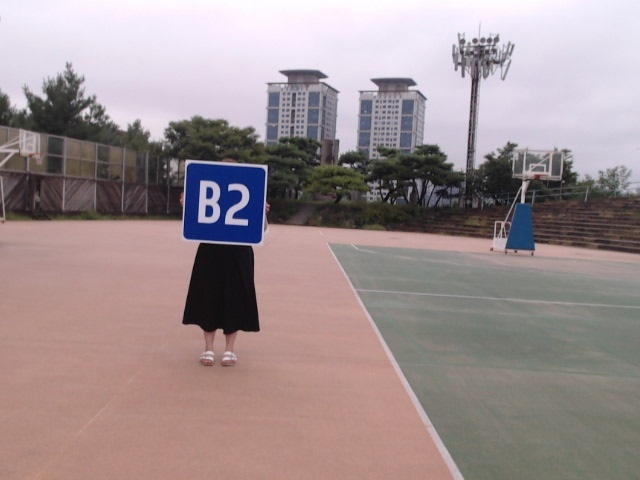delivery_b2: (182, 161, 268, 245)
